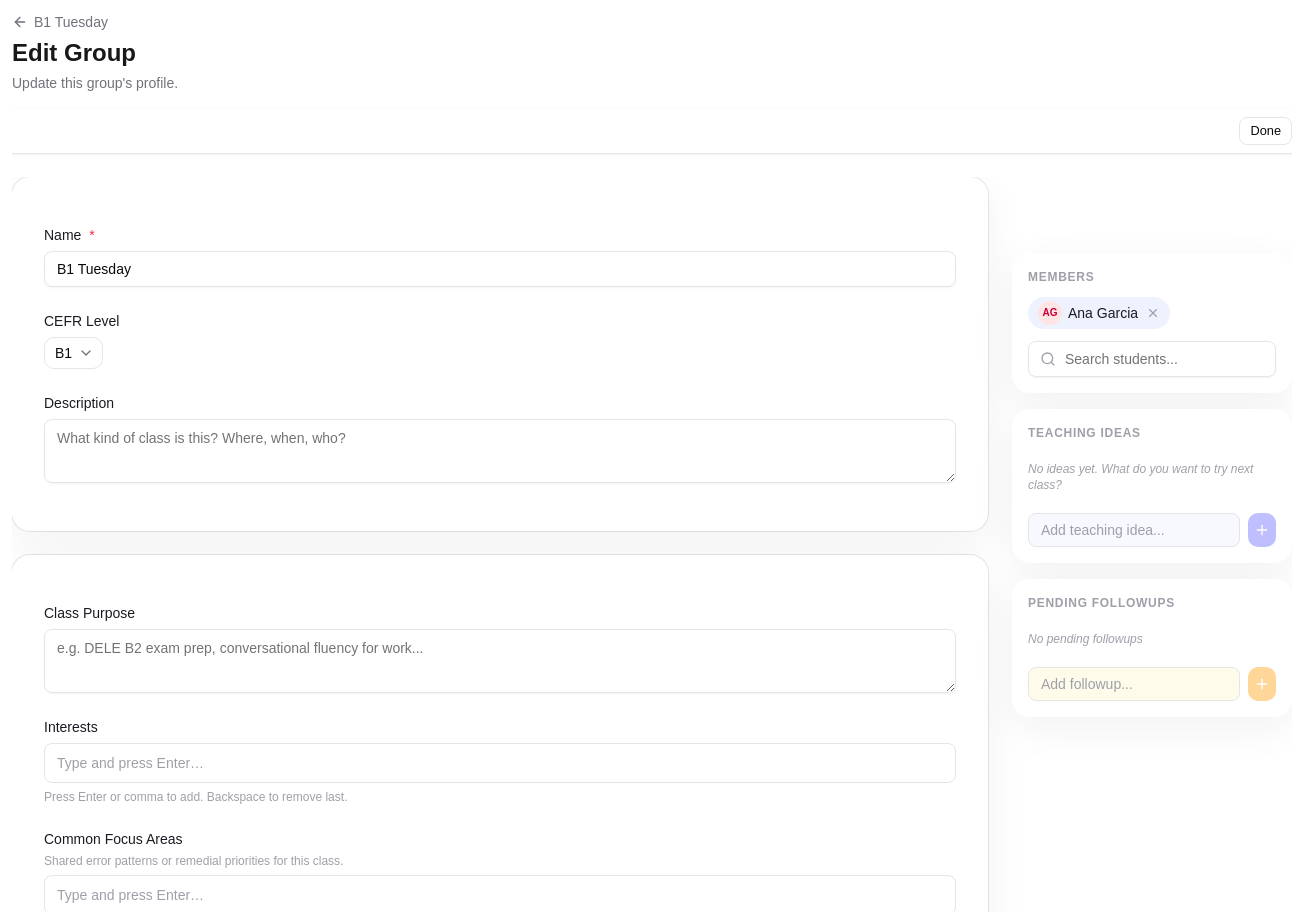
GroupForm - edit mode › removes member chip on × click
The width and height of the screenshot is (1304, 912).
Expected: the text "Ana Garcia" is shown, [1068, 303, 1138, 323]
What coordinates should you click on to do the following:
click the button with test id "remove-member-s1"
I would click on:
 (1153, 313)
Its box is [1146, 306, 1160, 320].
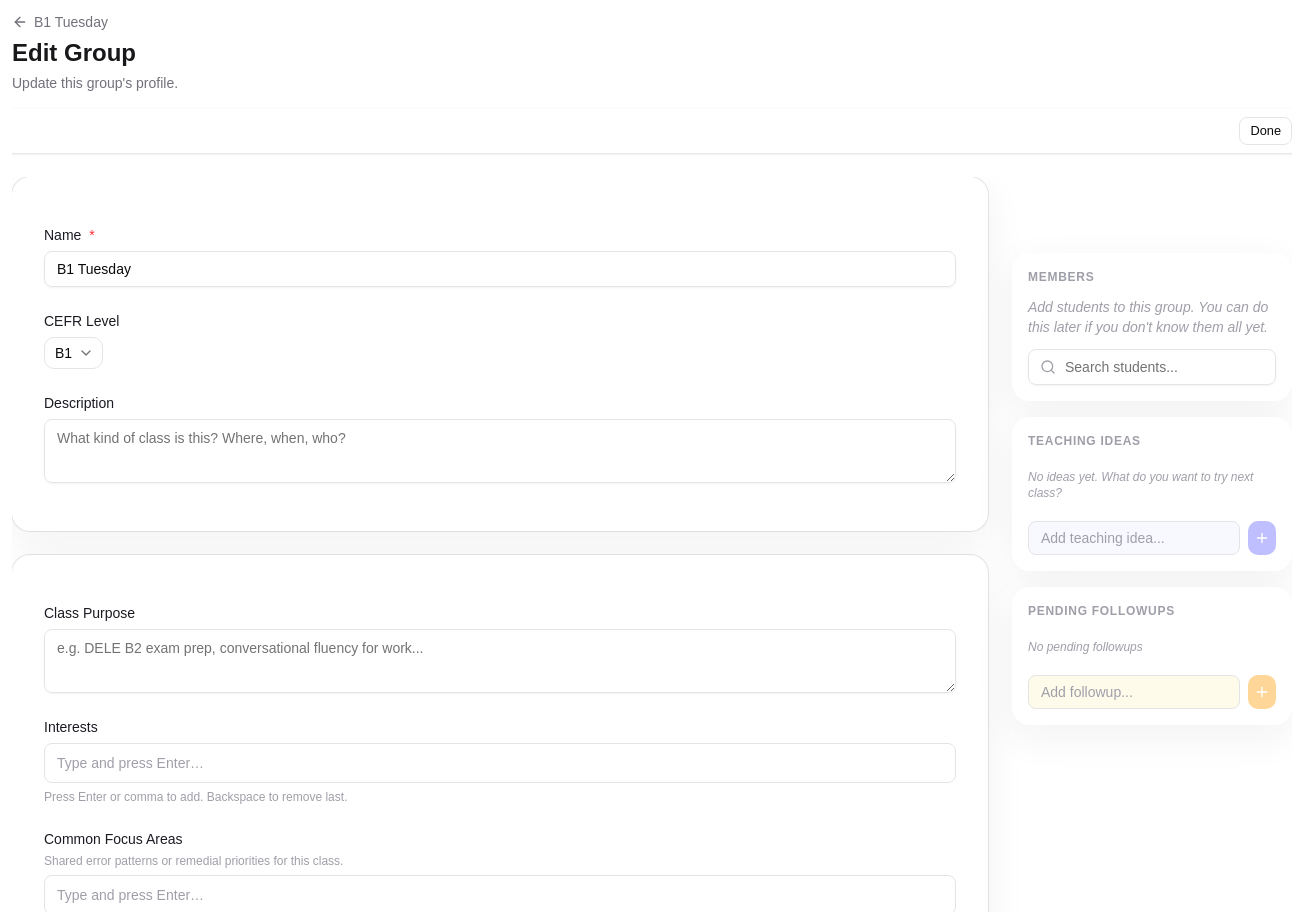
Expected: the text "Ana Garcia" is gone
